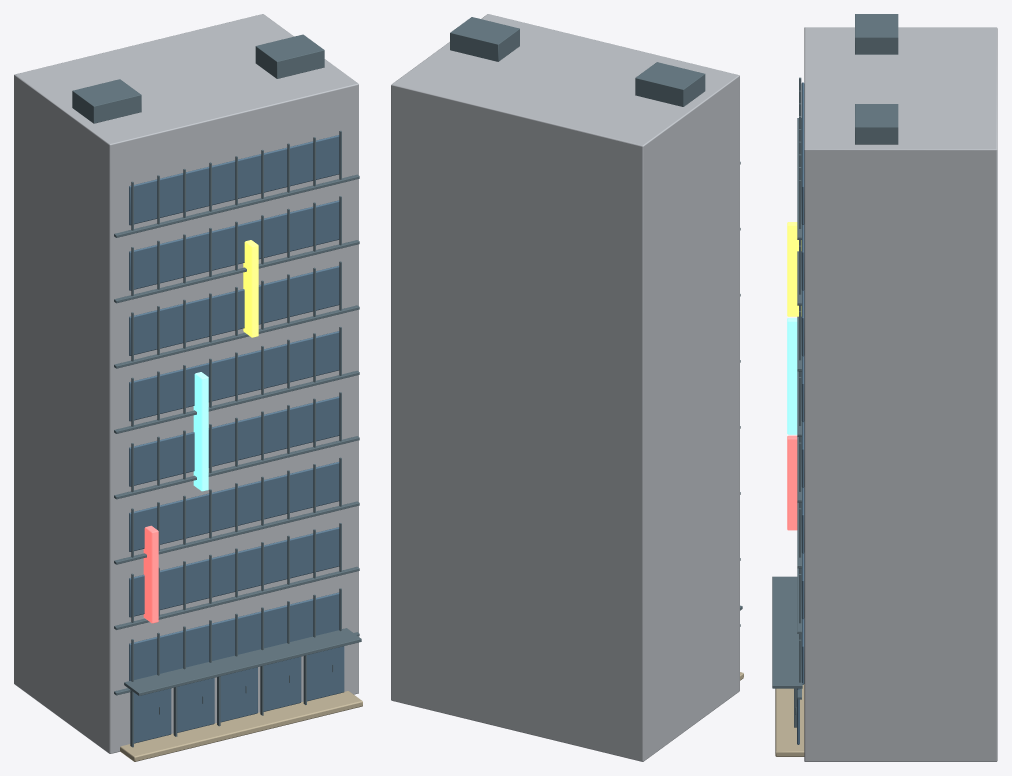
File: radio_hall.glb
3 renders of one model, left to right at view 1: azimuth 30°, elevation 25°; view 2: azimuth 150°, elevation 25°; view 3: azimuth 270°, elevation 25°, orthographic.
Visible parts, largest first — view 1: Detail.radio_hall.Facade, Detail.radio_hall.Glass, Detail.radio_hall.Detail.Metal, Detail.radio_hall.Detail.Glass, Detail.radio_hall.Detail.Stone, Detail.radio_hall.Cyan, Detail.radio_hall.Yellow, Detail.radio_hall.Red; view 2: Detail.radio_hall.Facade, Detail.radio_hall.Detail.Metal; view 3: Detail.radio_hall.Facade, Detail.radio_hall.Detail.Metal, Detail.radio_hall.Glass, Detail.radio_hall.Detail.Stone, Detail.radio_hall.Cyan, Detail.radio_hall.Yellow, Detail.radio_hall.Red.
Boxes of the visible parts, box(x1,y1,x2,y2) form: Detail.radio_hall.Facade: box(14, 14, 358, 753); Detail.radio_hall.Glass: box(129, 135, 339, 680); Detail.radio_hall.Detail.Metal: box(72, 34, 361, 747); Detail.radio_hall.Detail.Glass: box(134, 646, 344, 743); Detail.radio_hall.Detail.Stone: box(120, 691, 362, 761); Detail.radio_hall.Cyan: box(193, 372, 208, 491); Detail.radio_hall.Yellow: box(243, 240, 258, 337); Detail.radio_hall.Red: box(143, 525, 158, 623); Detail.radio_hall.Facade: box(391, 14, 739, 761); Detail.radio_hall.Detail.Metal: box(450, 17, 742, 626); Detail.radio_hall.Facade: box(804, 27, 997, 761); Detail.radio_hall.Detail.Metal: box(772, 14, 898, 727); Detail.radio_hall.Glass: box(801, 82, 804, 684); Detail.radio_hall.Detail.Stone: box(775, 684, 804, 756); Detail.radio_hall.Cyan: box(787, 318, 797, 434); Detail.radio_hall.Yellow: box(787, 222, 801, 316); Detail.radio_hall.Red: box(787, 435, 797, 530).
Size of the model in its own units: 12 by 28.8 by 9.31.
